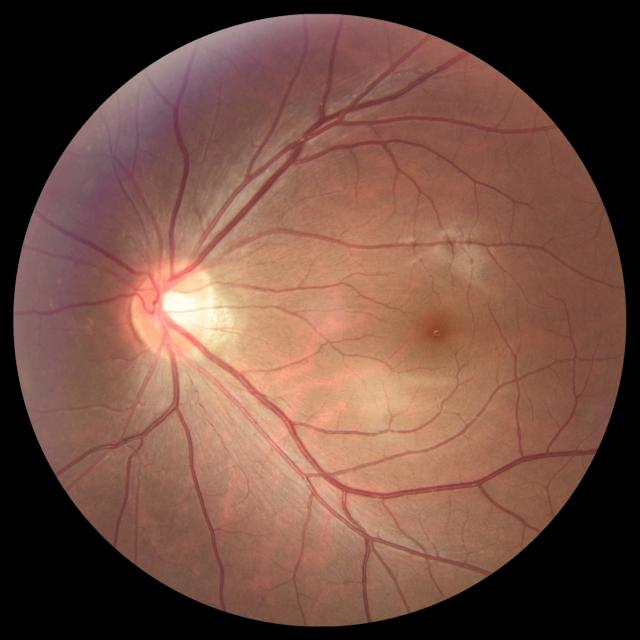OC: (155, 282, 203, 332)
OD: (133, 259, 219, 361)
